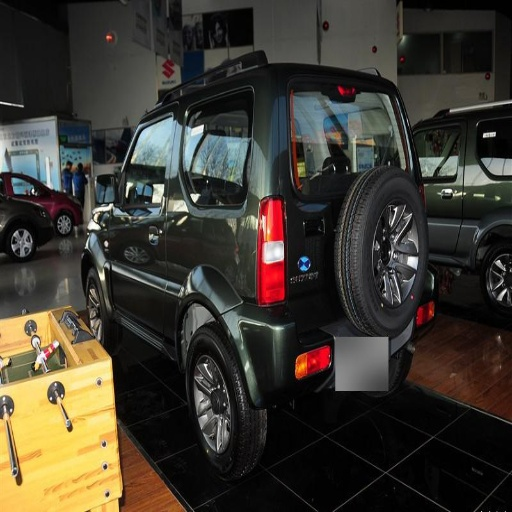trunk: (292, 168, 371, 251), (431, 183, 509, 261)
